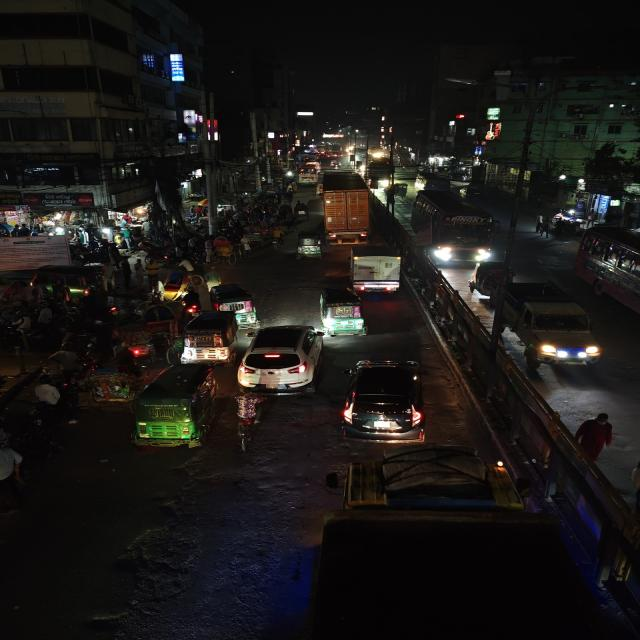bus: (412, 189, 501, 267), (572, 224, 640, 321), (366, 161, 393, 189), (296, 167, 318, 187)
car: (339, 357, 431, 443), (238, 322, 330, 396)
cng: (129, 361, 218, 455), (180, 312, 240, 364), (32, 264, 110, 302), (317, 287, 370, 337), (208, 283, 261, 328), (469, 257, 508, 296), (294, 229, 326, 261)
motorcycle: (181, 288, 202, 314), (269, 230, 284, 251)
pedestrian: (574, 409, 620, 462), (0, 428, 27, 504), (28, 378, 65, 424), (204, 266, 224, 288), (178, 257, 197, 275)
pickup_van: (491, 277, 601, 371)
rickshaw: (108, 308, 170, 359), (84, 361, 144, 411), (224, 392, 270, 450), (155, 269, 190, 301), (206, 236, 239, 266)
truck: (306, 446, 630, 640), (317, 170, 373, 246), (346, 243, 408, 296)
